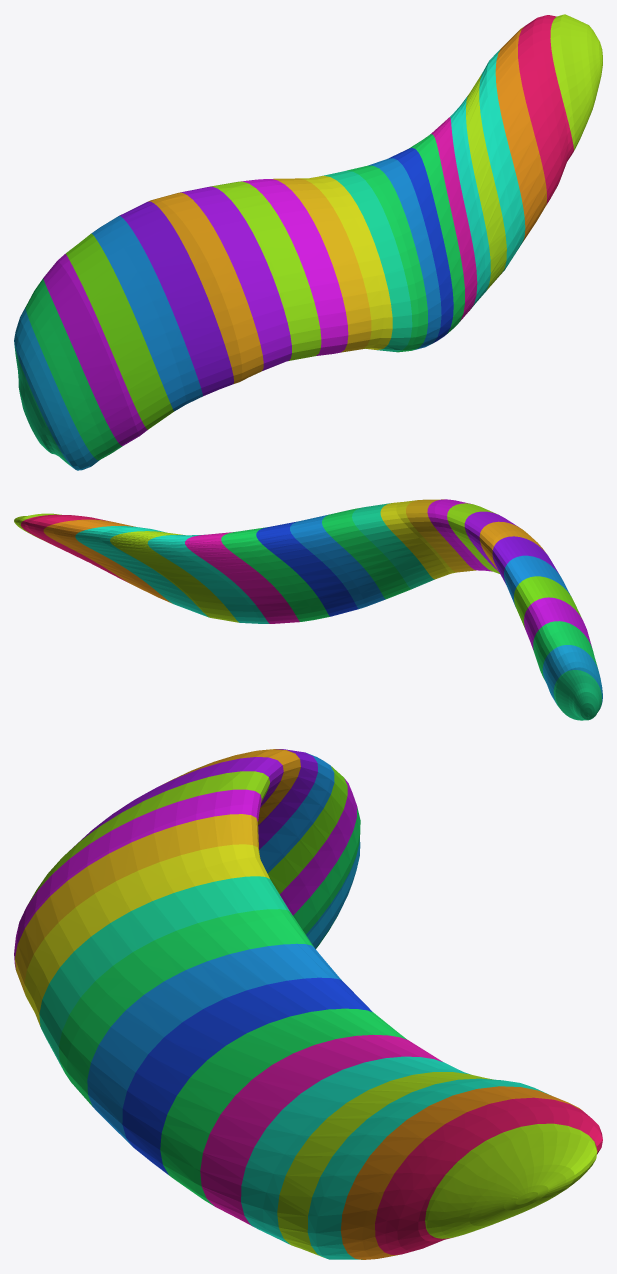
Rendered from pancreas-female-uf.glb.
3 views of the same model, one above another, from view 1: azimuth 30°, elevation 25°; view 2: azimuth 150°, elevation 25°; view 3: azimuth 270°, elevation 25° (orthographic). The views are drawn at different scales.
Visible parts, largest first — view 1: world; view 2: world; view 3: world.
Part boxes in pixels (<box>): world: <box>14,14,602,470</box>; world: <box>14,499,602,720</box>; world: <box>14,749,602,1259</box>.
Bounding box in the file's own units: 0.1569 × 0.0538 × 0.0821.
